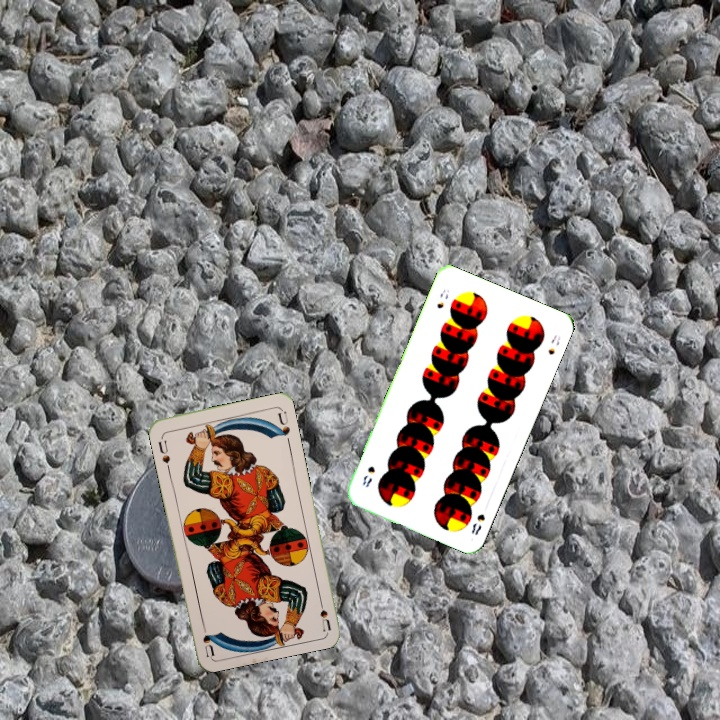S8: (467, 510, 488, 537), (433, 285, 452, 311)
SU: (315, 592, 333, 633), (154, 432, 172, 472)
